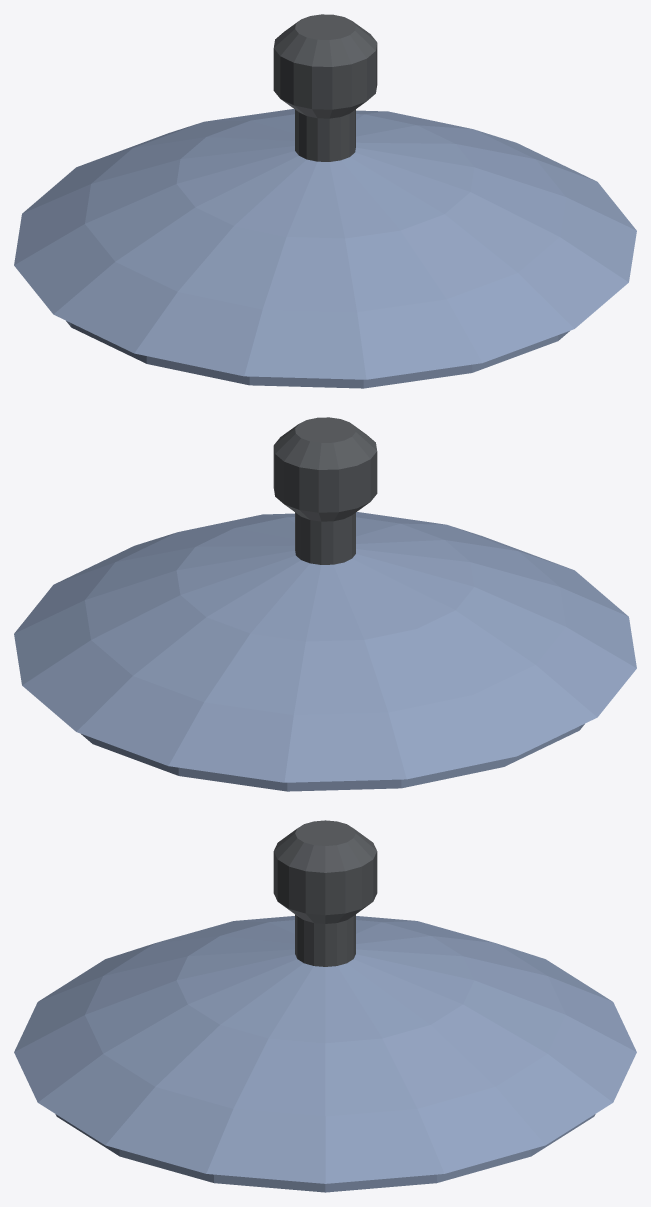
The model's file is Kettle2_C1_02.fbx.
The picture shows the model from 3 angles, top to bottom: view 1: azimuth 30°, elevation 25°; view 2: azimuth 150°, elevation 25°; view 3: azimuth 270°, elevation 25°; orthographic projection.
Visible parts, largest first — view 1: Kettle2_C1_02; view 2: Kettle2_C1_02; view 3: Kettle2_C1_02.
Boxes of the visible parts, x1,y1,x2,y2 form: Kettle2_C1_02: (14, 14, 636, 388); Kettle2_C1_02: (14, 417, 636, 791); Kettle2_C1_02: (14, 820, 636, 1192).
Size of the model in its own units: 13.49 by 5.65 by 13.49.
